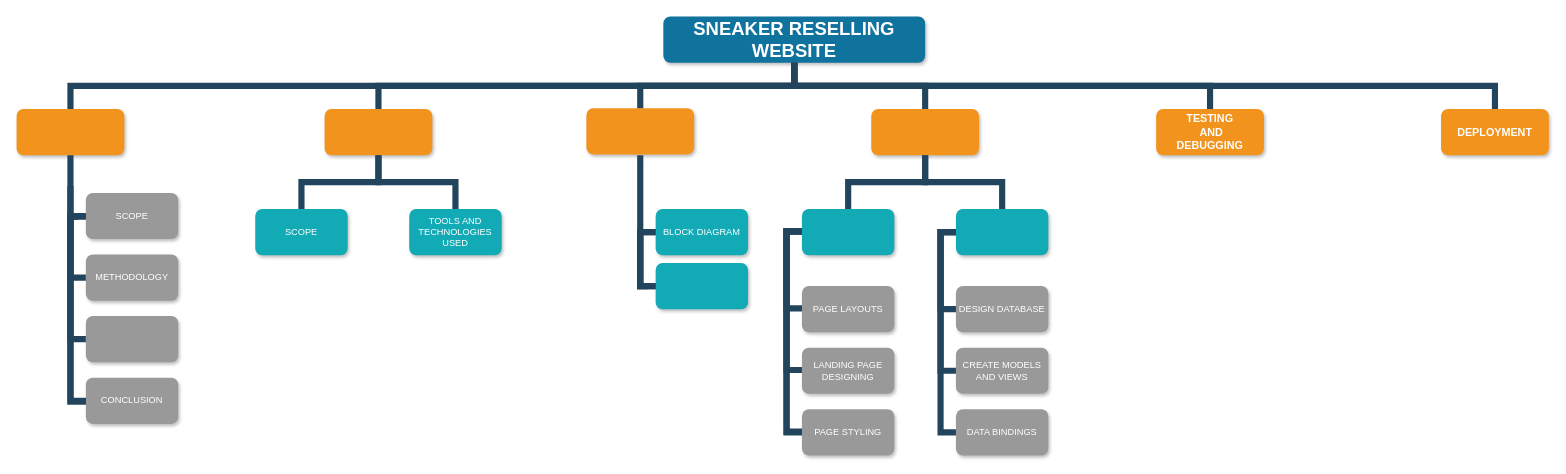
The diagram is 1566 pixels wide and 474 high, and some of its shapes have lost their labels. The centre of each missing label's shape, as x and y in pixels:
"BACK END" belongs at (x=1002, y=233).
"DELIVERABLES AND OUTCOMES" belongs at (x=132, y=340).
"DESIGN" belongs at (x=640, y=132).
"DEVELOPMENT PHASE" belongs at (x=925, y=132).
"FRONT END" belongs at (x=848, y=233).
"PLANNING" belongs at (x=379, y=132).
"REPORT" belongs at (x=71, y=132).
"USE CASE DIAGRAM" belongs at (x=702, y=286).
